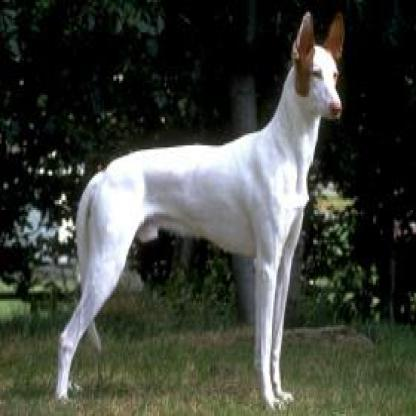dog: (37, 6, 352, 414)
